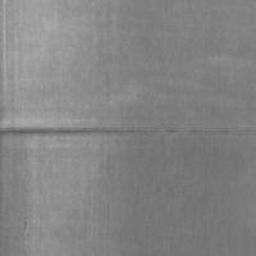Welding line: (0, 122, 256, 137)
